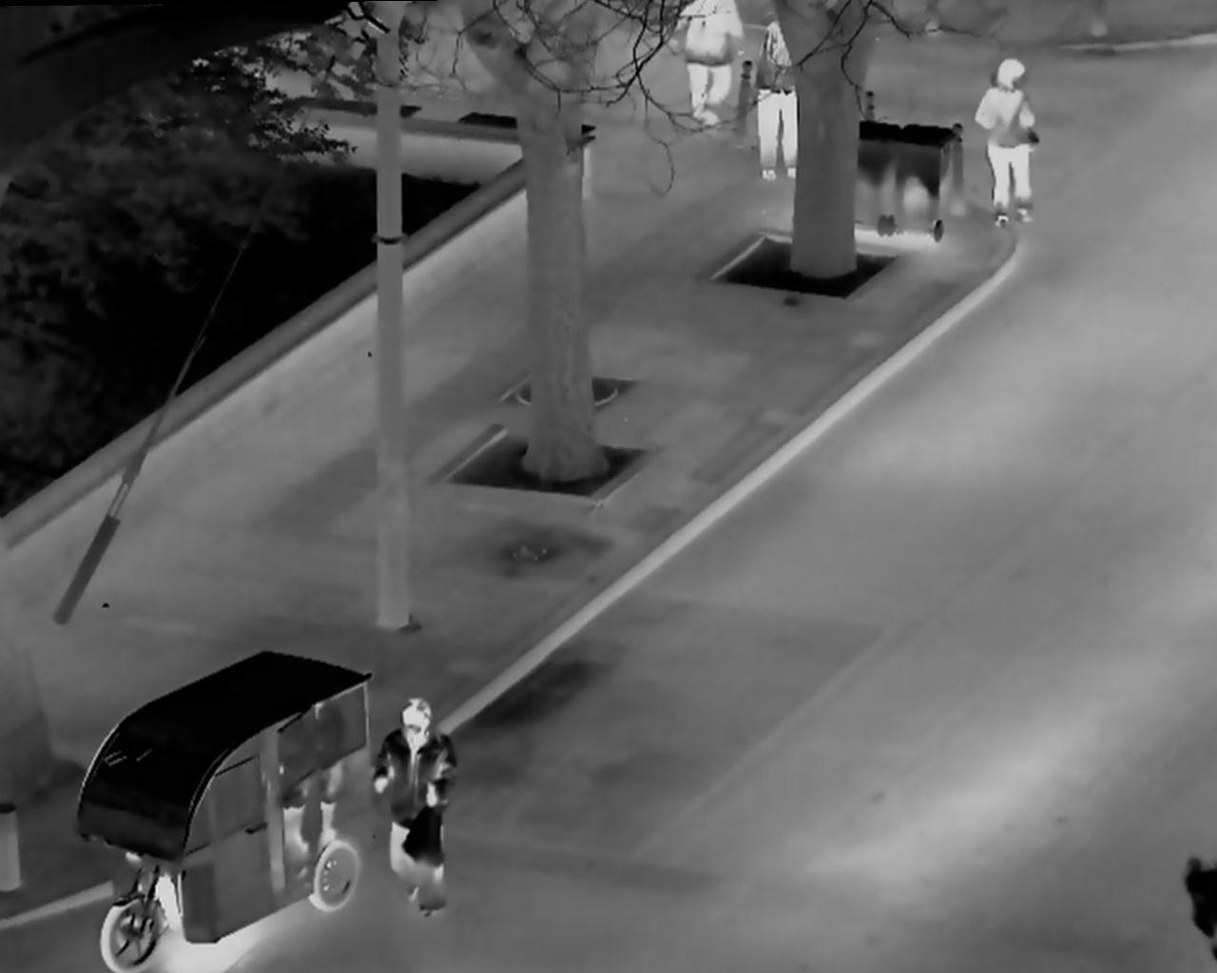person: (370, 677, 469, 929), (974, 53, 1047, 238), (757, 12, 812, 179), (668, 5, 744, 125)
